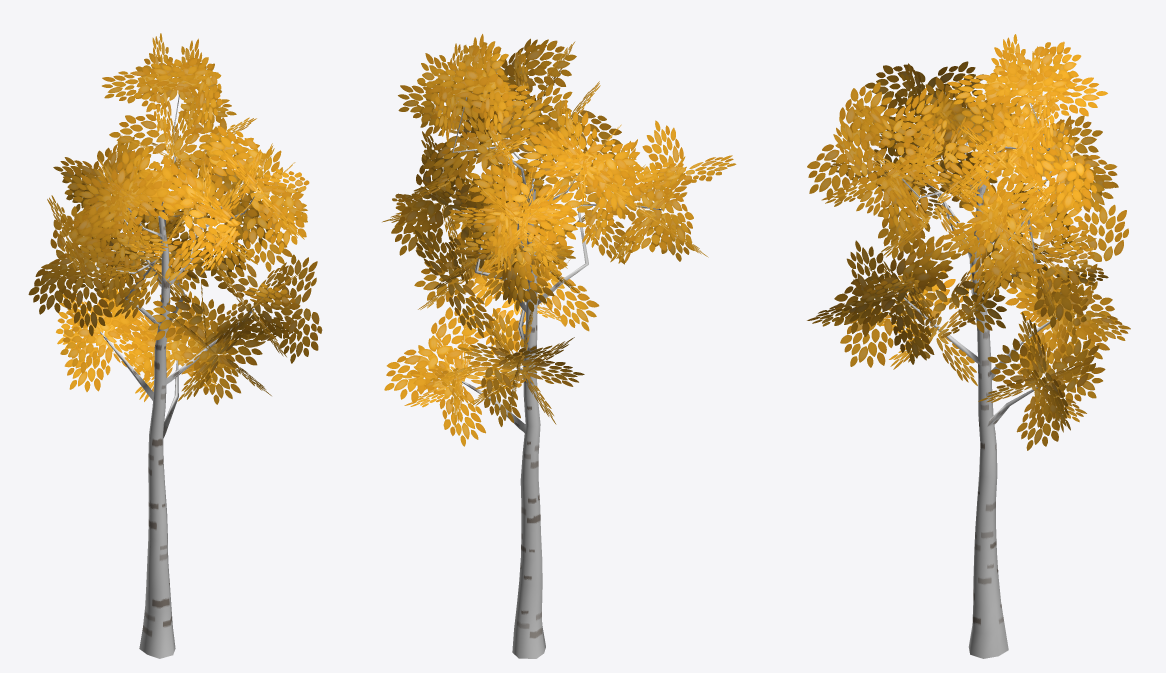
The model's file is stylizedtree02b.glb.
3 renders of one model, left to right at view 1: azimuth 30°, elevation 25°; view 2: azimuth 150°, elevation 25°; view 3: azimuth 270°, elevation 25°, orthographic. The views are drawn at different scales.
Visible parts, largest first — view 1: stylizedTree02.001; view 2: stylizedTree02.001; view 3: stylizedTree02.001.
Boxes of the visible parts, <box> form: stylizedTree02.001: <box>28,33,322,658</box>; stylizedTree02.001: <box>382,34,736,658</box>; stylizedTree02.001: <box>807,34,1130,658</box>.
Size of what is drawn, in the model's own units: 8.92 by 16.91 by 8.77.
Materials: 2 (2 with a texture image).
